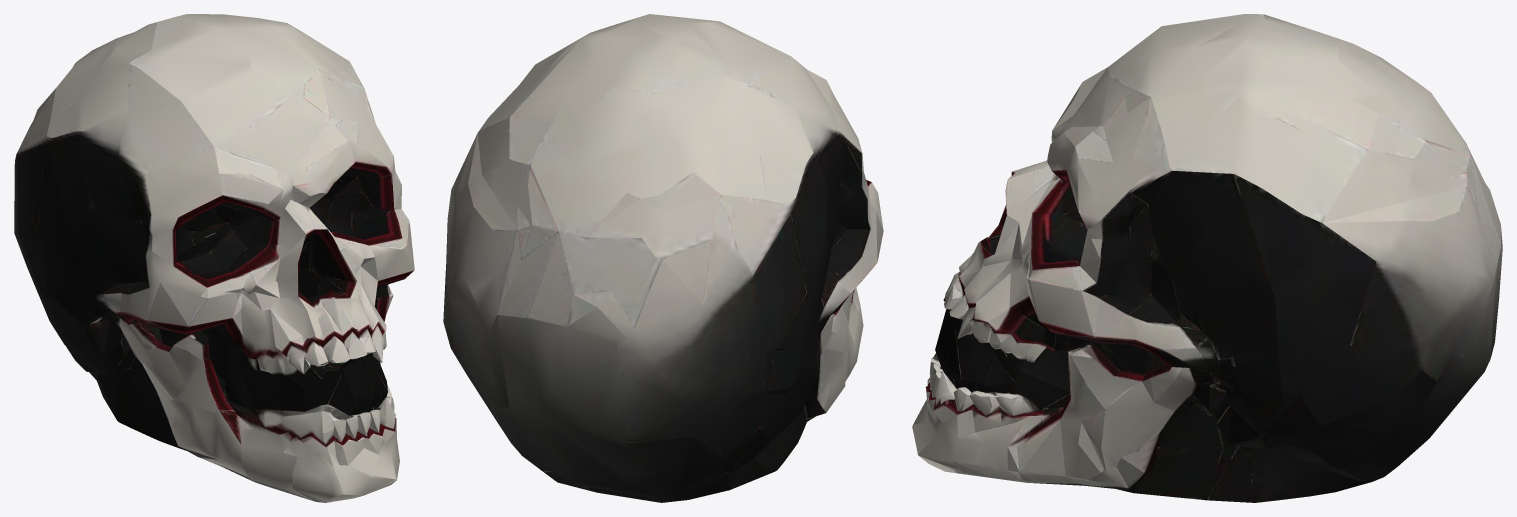
File: skull.glb
3 renders of one model, left to right at view 1: azimuth 30°, elevation 25°; view 2: azimuth 150°, elevation 25°; view 3: azimuth 270°, elevation 25°, orthographic. The views are drawn at different scales.
Parts seen in each view (by area): view 1: mesh_node; view 2: mesh_node; view 3: mesh_node.
Part boxes in pixels (x1=…): mesh_node: x1=14, y1=14, x2=414, y2=502; mesh_node: x1=443, y1=14, x2=883, y2=502; mesh_node: x1=912, y1=14, x2=1502, y2=502.
Bounding box in the file's own units: 1.28 × 1.49 × 1.9.
Materials: 1 (1 with a texture image).
